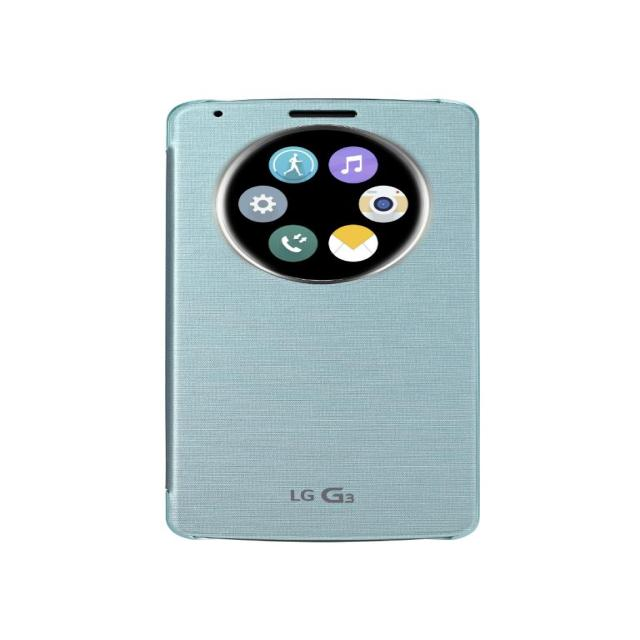Mobile-phone: (152, 105, 500, 552)
